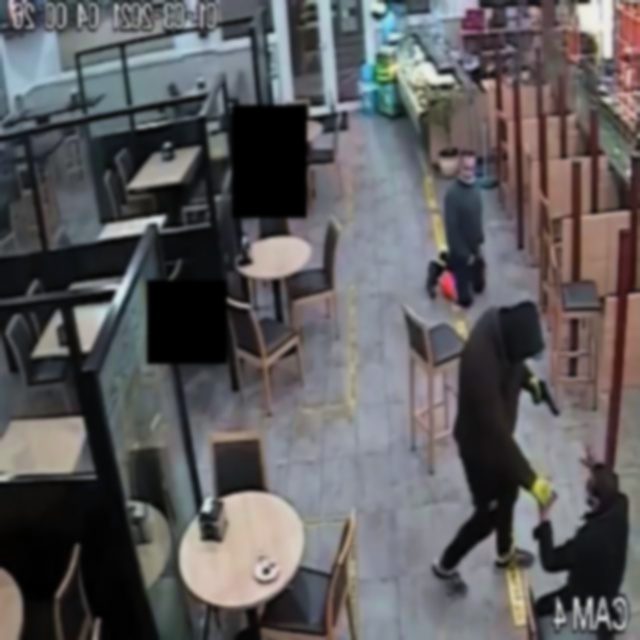gun: (522, 373, 570, 429)
